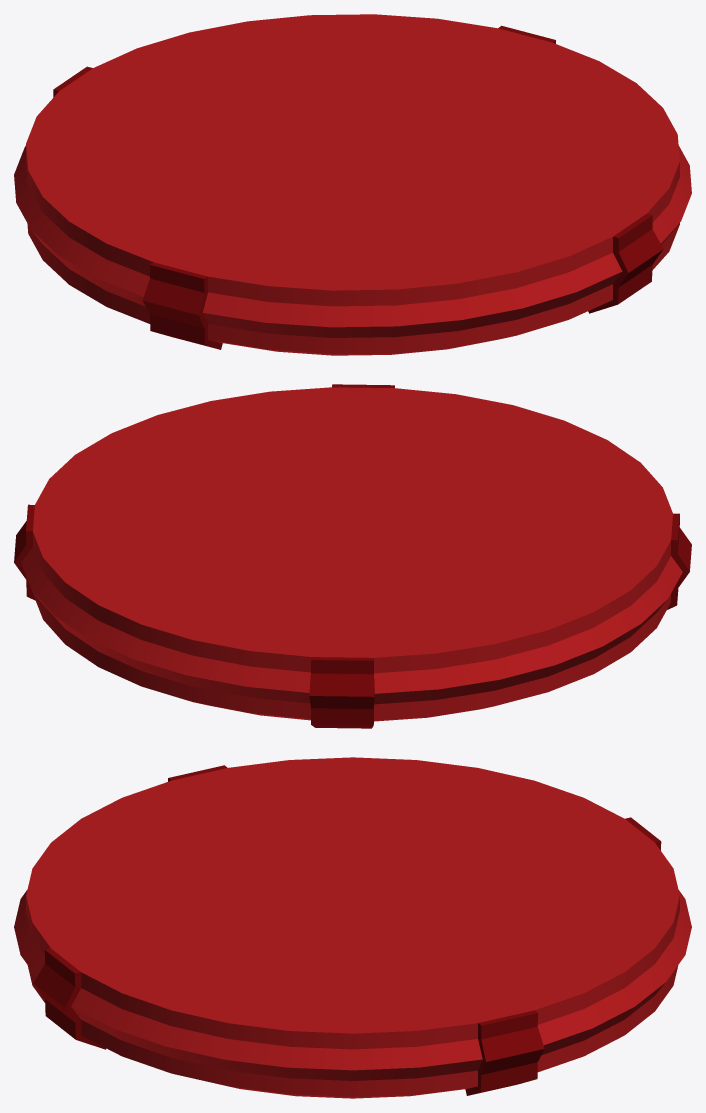
Rendered from middle4.glb.
3 renders of one model, top to bottom at view 1: azimuth 30°, elevation 25°; view 2: azimuth 150°, elevation 25°; view 3: azimuth 270°, elevation 25°, orthographic. The views are drawn at different scales.
Parts seen in each view (by area): view 1: middle; view 2: middle; view 3: middle.
Part boxes in pixels (bbox=[...]): middle: bbox=[14, 14, 691, 355]; middle: bbox=[14, 384, 691, 728]; middle: bbox=[14, 757, 691, 1098].
Size of the model in its own units: 0.3111 by 0.0429 by 0.3111.
